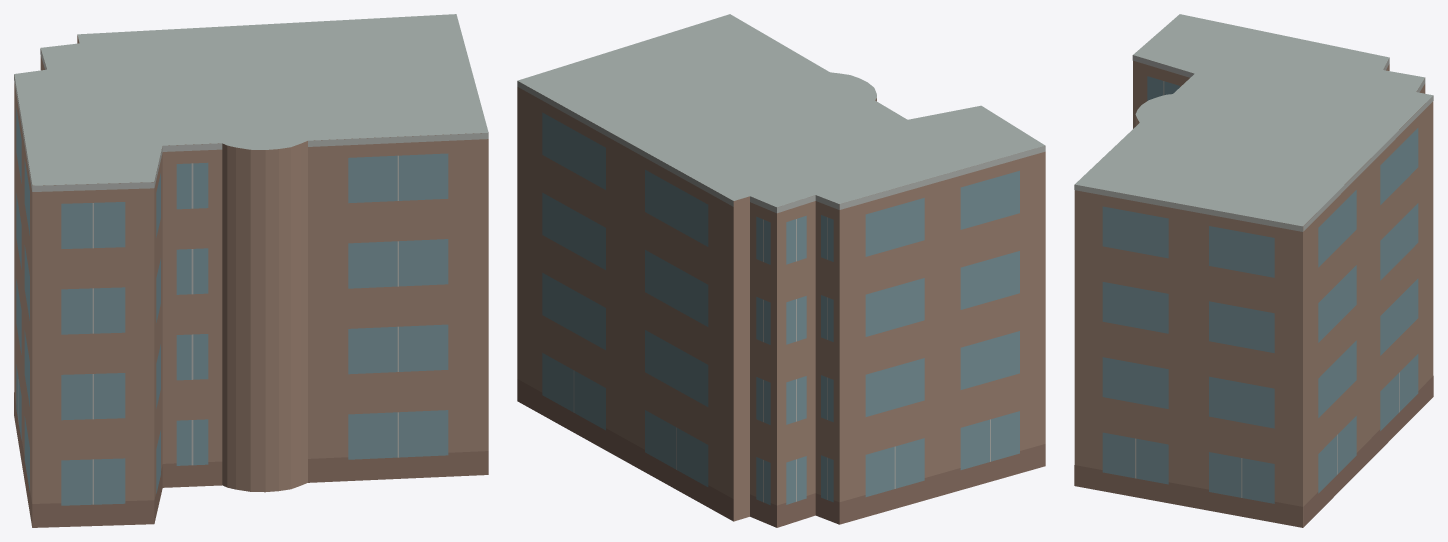
The model's file is survey-upis-32804665.glb.
3 views of the same model, side by side, from view 1: azimuth 30°, elevation 25°; view 2: azimuth 150°, elevation 25°; view 3: azimuth 270°, elevation 25° (orthographic). The views are drawn at different scales.
Visible parts, largest first — view 1: survey-upis-32804665.tmp; view 2: survey-upis-32804665.tmp; view 3: survey-upis-32804665.tmp.
Part boxes in pixels (box(x1,y1,x2,y2)): survey-upis-32804665.tmp: box(14, 14, 488, 527); survey-upis-32804665.tmp: box(517, 14, 1045, 527); survey-upis-32804665.tmp: box(1074, 14, 1433, 527).
Size of the model in its own units: 19.96 by 13.2 by 14.26.
